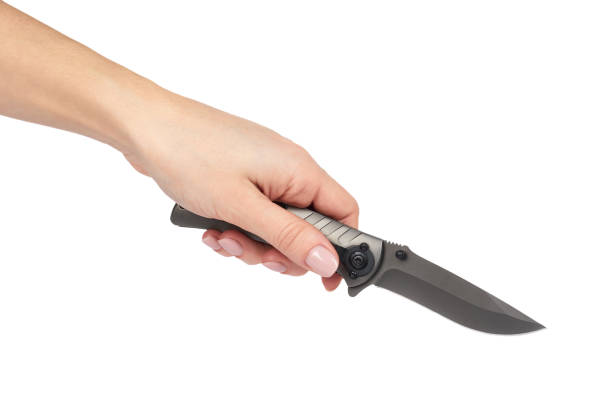knife: (366, 239, 548, 337)
